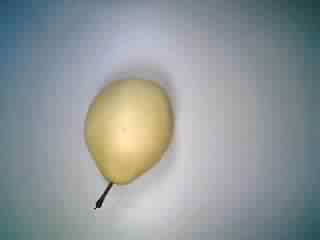pear: (72, 72, 187, 214)
